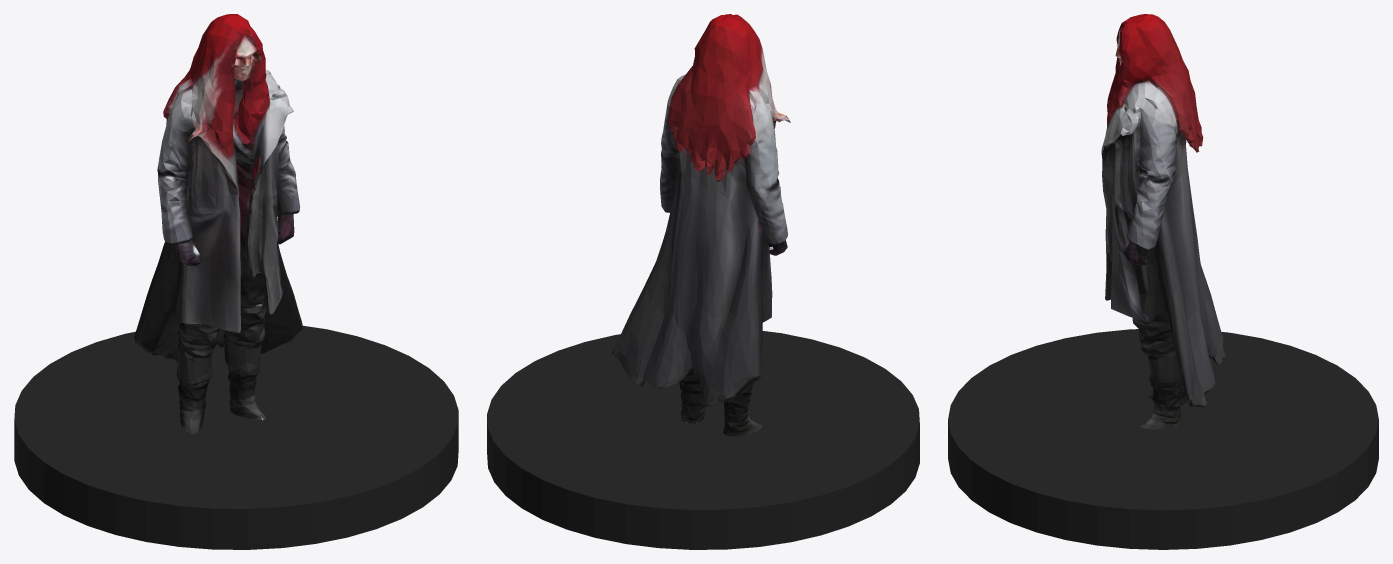
Rendered from olivia-brown.glb.
3 renders of one model, left to right at view 1: azimuth 30°, elevation 25°; view 2: azimuth 150°, elevation 25°; view 3: azimuth 270°, elevation 25°, orthographic. The views are drawn at different scales.
Parts seen in each view (by area): view 1: base, figure; view 2: base, figure; view 3: base, figure.
Boxes of the visible parts, left/top/right/bottom form: base: left=14, top=325, right=458, bottom=549; figure: left=134, top=14, right=303, bottom=433; base: left=487, top=331, right=919, bottom=549; figure: left=612, top=14, right=790, bottom=436; base: left=948, top=329, right=1378, bottom=549; figure: left=1101, top=14, right=1225, bottom=429.
Size of the model in its own units: 1.18 by 1.32 by 1.18.
Materials: 2 (1 with a texture image).
